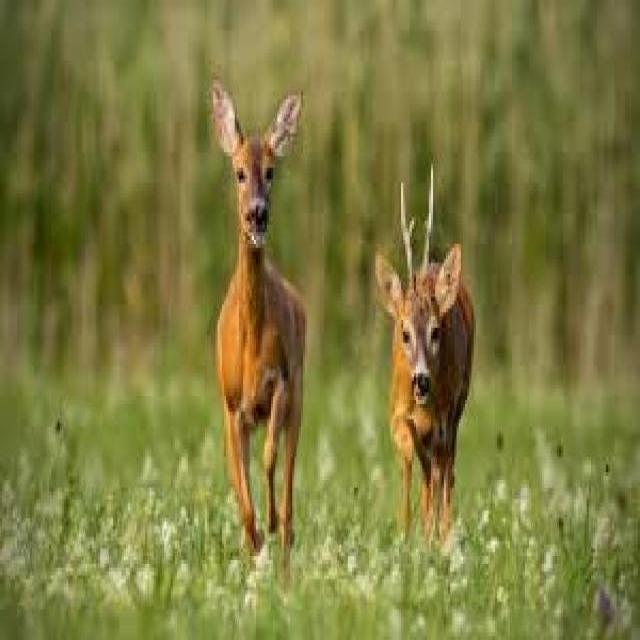deer: (202, 52, 312, 584), (378, 160, 478, 547)
